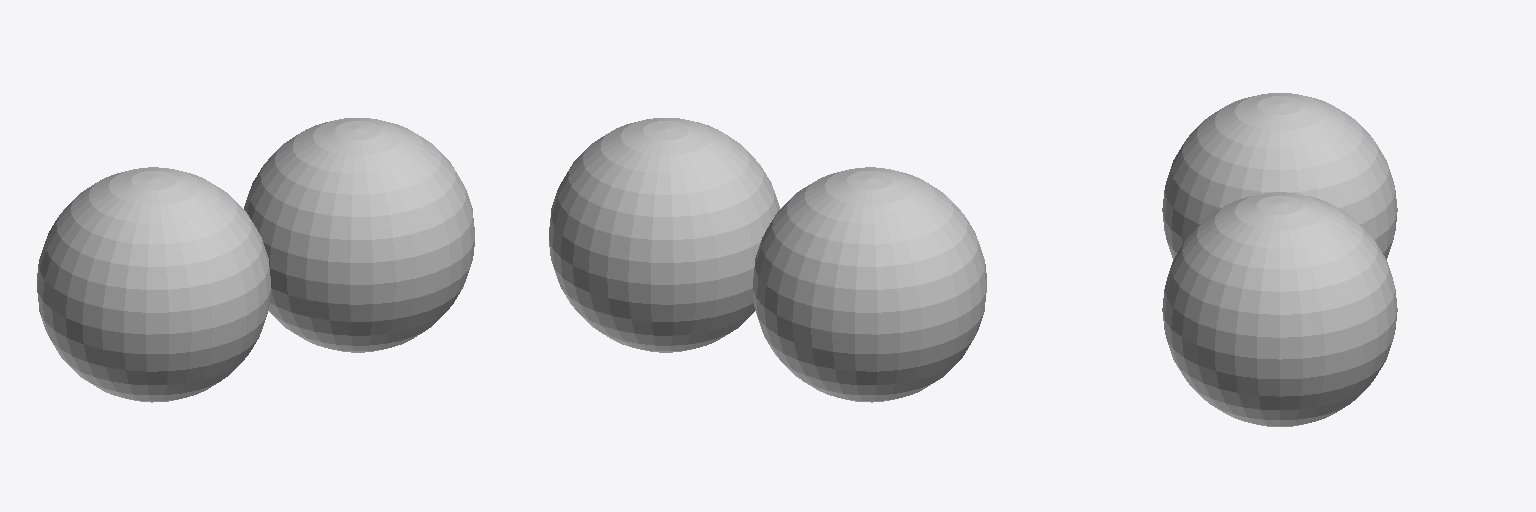
The model's file is ogonvita.obj.
3 views of the same model, side by side, from view 1: azimuth 30°, elevation 25°; view 2: azimuth 150°, elevation 25°; view 3: azimuth 270°, elevation 25° (orthographic).
Visible parts, largest first — view 1: Sphere_-_vit_Sphere, Sphere_-_vit.001_Sphere; view 2: Sphere_-_vit_Sphere, Sphere_-_vit.001_Sphere; view 3: Sphere_-_vit.001_Sphere, Sphere_-_vit_Sphere.
Part boxes in pixels (bbox=[...]): Sphere_-_vit_Sphere: bbox=[37, 167, 270, 402]; Sphere_-_vit.001_Sphere: bbox=[244, 118, 474, 352]; Sphere_-_vit_Sphere: bbox=[753, 167, 986, 402]; Sphere_-_vit.001_Sphere: bbox=[549, 118, 779, 352]; Sphere_-_vit.001_Sphere: bbox=[1162, 192, 1397, 426]; Sphere_-_vit_Sphere: bbox=[1162, 93, 1397, 259].
Bounding box in the file's own units: 0.8 × 0.3848 × 0.4.